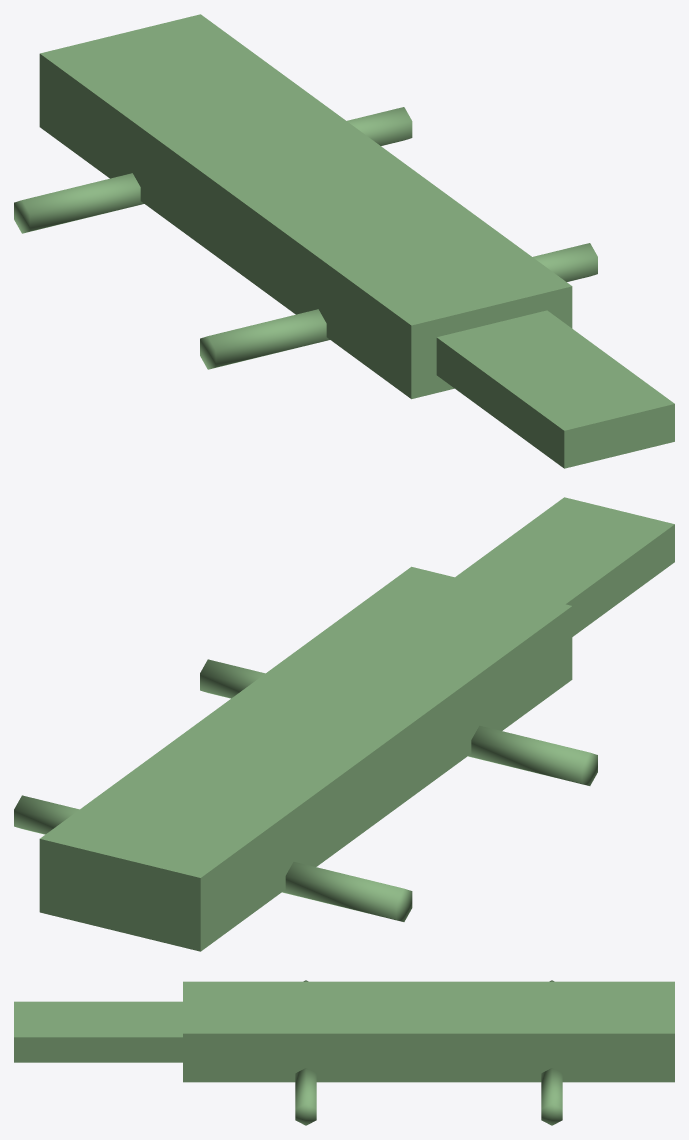
The picture shows the model from 3 angles, top to bottom: view 1: azimuth 30°, elevation 25°; view 2: azimuth 150°, elevation 25°; view 3: azimuth 270°, elevation 25°; orthographic projection. The views are drawn at different scales.
Visible parts, largest first — view 1: Generated3DMesh; view 2: Generated3DMesh; view 3: Generated3DMesh.
Part boxes in pixels (bbox=[...]): Generated3DMesh: bbox=[14, 14, 674, 468]; Generated3DMesh: bbox=[14, 497, 674, 951]; Generated3DMesh: bbox=[14, 980, 674, 1125].
Size of the model in its own units: 1.9 by 0.405 by 4.3.
